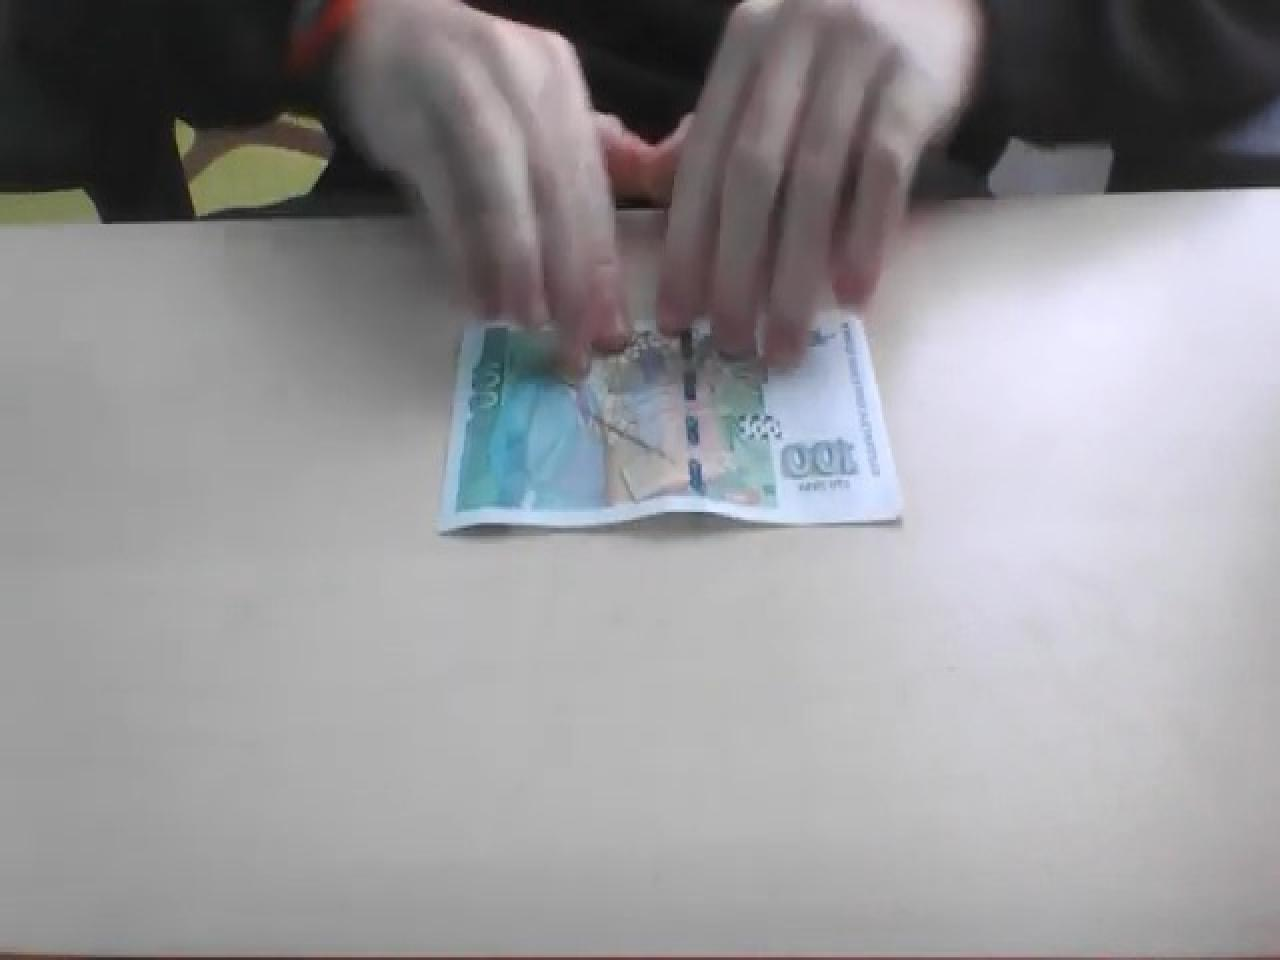100leva: (438, 318, 904, 536)
